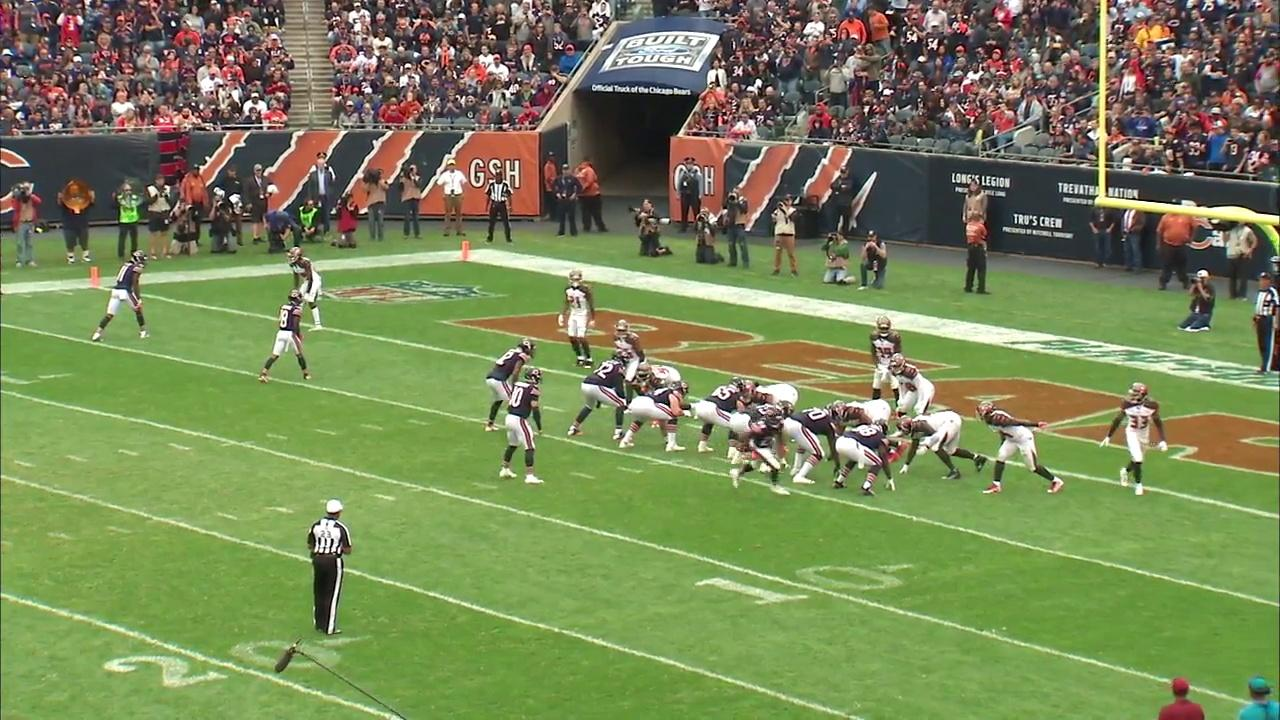player: (974, 399, 1066, 498), (1101, 382, 1170, 502), (561, 349, 637, 443), (894, 410, 989, 484), (493, 364, 547, 489), (616, 377, 697, 454), (726, 407, 793, 498), (90, 247, 152, 344), (255, 289, 314, 386), (830, 395, 908, 466), (691, 374, 752, 462), (783, 399, 843, 488), (484, 337, 538, 434), (728, 397, 796, 474), (887, 352, 937, 451), (831, 419, 891, 496), (554, 267, 598, 371), (634, 361, 700, 429), (282, 245, 327, 334), (609, 318, 647, 417), (866, 314, 902, 409), (738, 378, 801, 408)
ref: (301, 494, 358, 639), (1242, 267, 1280, 378), (479, 168, 521, 247)
